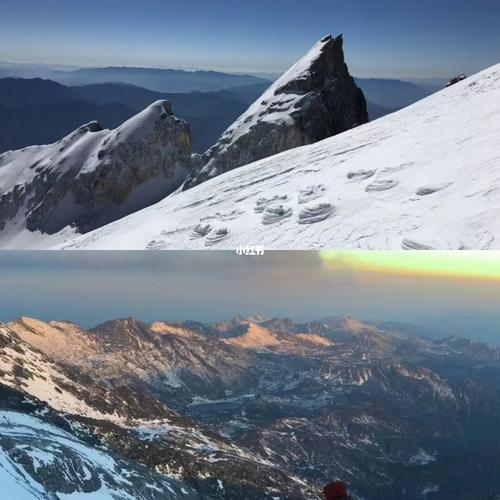mountain: (146, 326, 494, 482)
